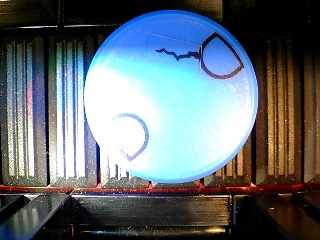CRACK: (84, 10, 259, 184)
